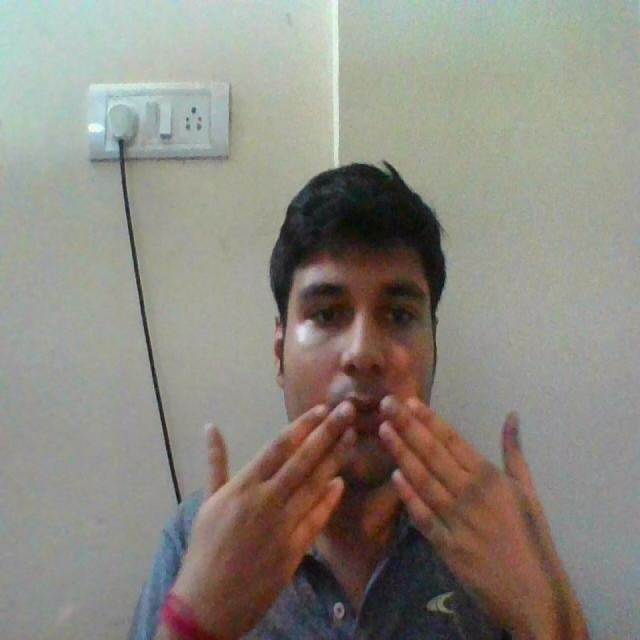Thanks: (154, 389, 581, 640)
